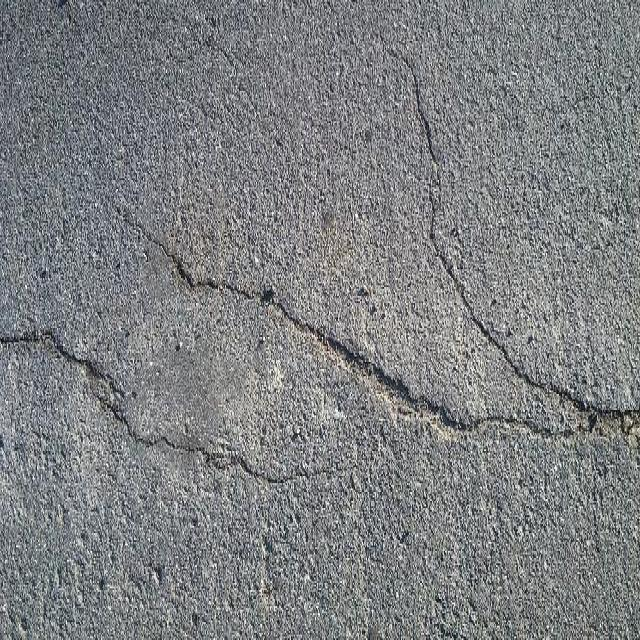Crack: (125, 218, 640, 457), (388, 50, 638, 438), (0, 308, 358, 494)
